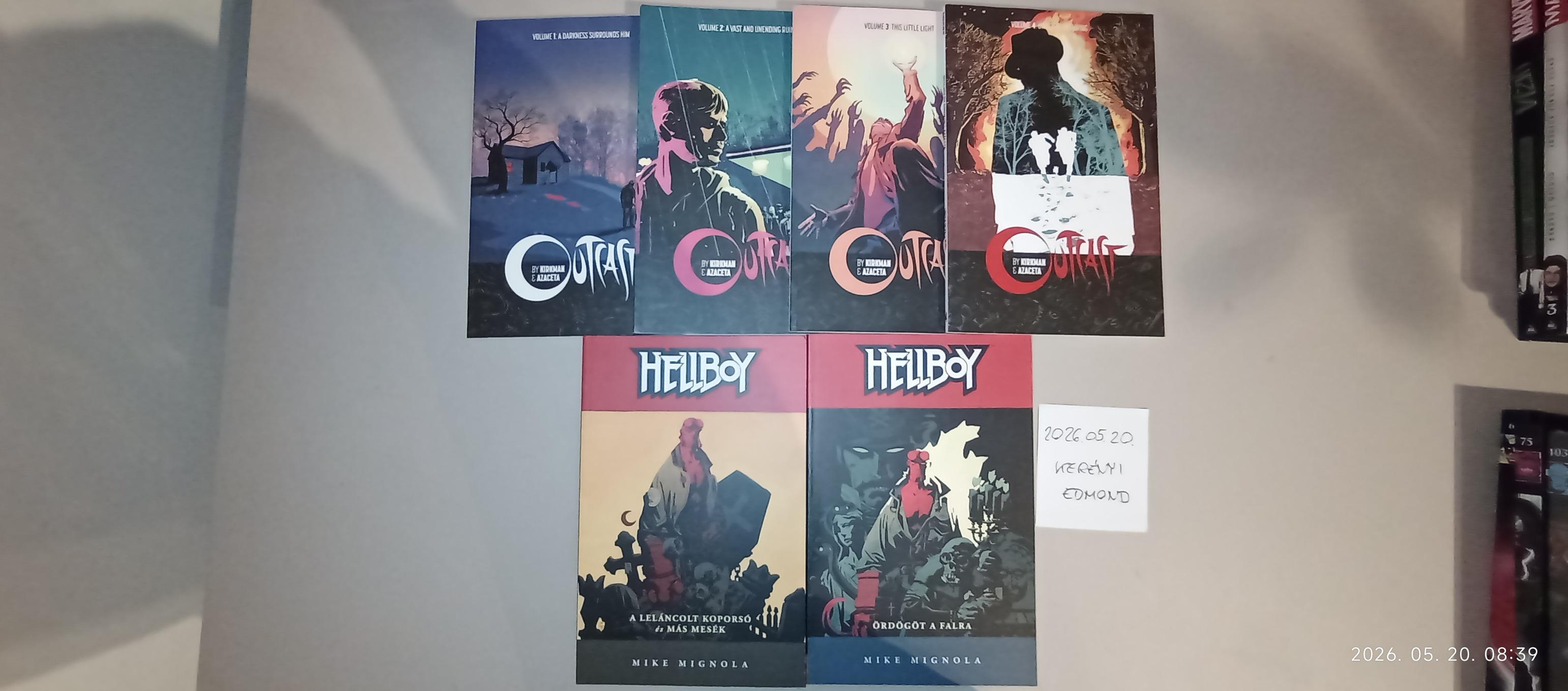comic: (804, 327, 1036, 691), (577, 333, 809, 686), (942, 1, 1164, 339), (467, 12, 642, 341), (632, 6, 800, 340), (793, 0, 953, 340)
